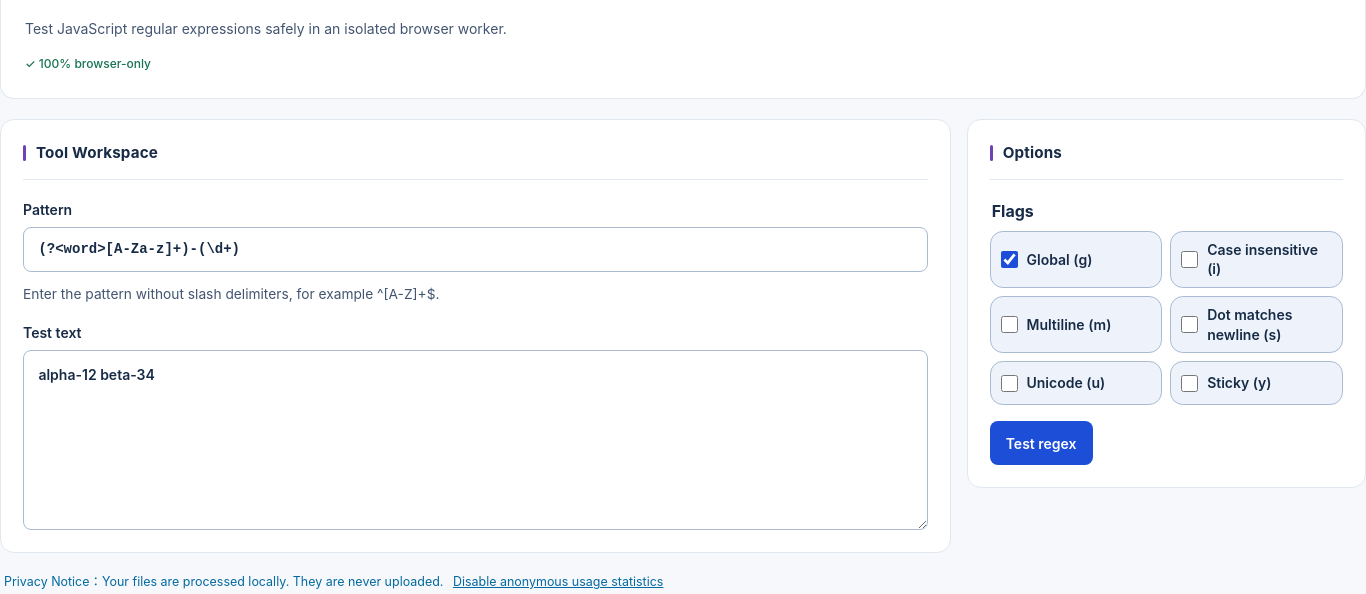
Test: RegexTesterPage › shows explicit no-match and truncated-result states
The image size is (1366, 594).
What coordinates should you click on to do the following:
click the button "Test regex"
I would click on:
 (1041, 443)
Its box is [990,421,1092,465].
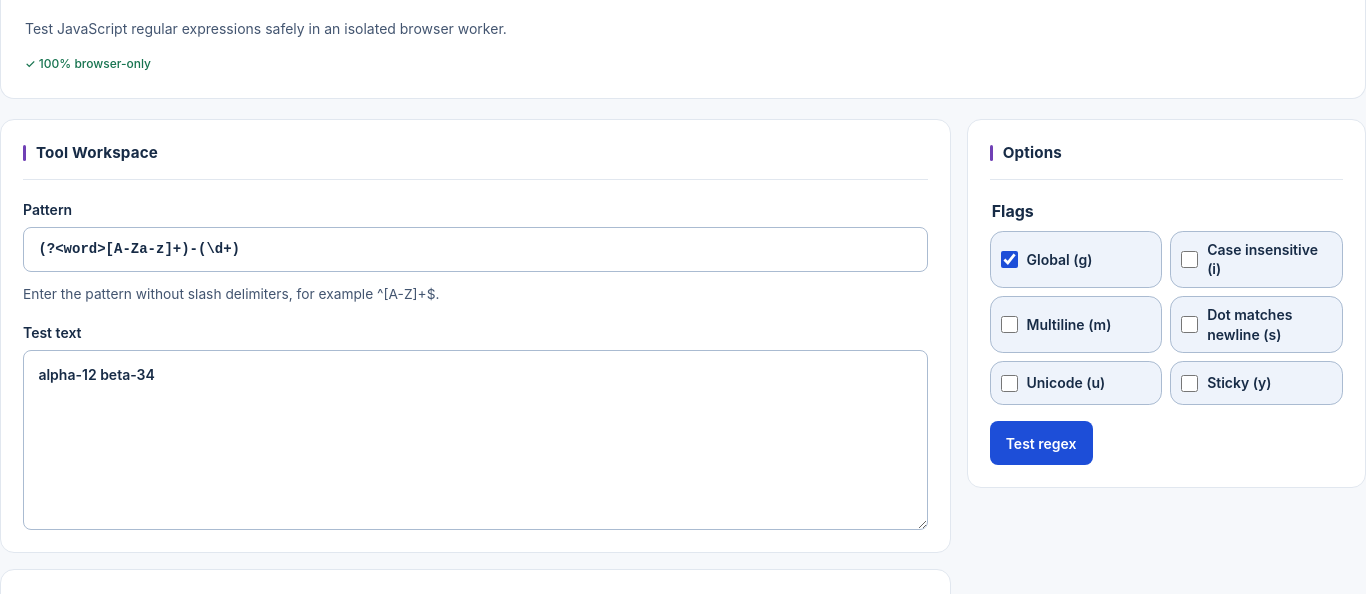
What coordinates should you click on to do the following:
click the button "Test regex"
I would click on:
 (1041, 443)
Its box is [990,421,1092,465].
(page scrolled)
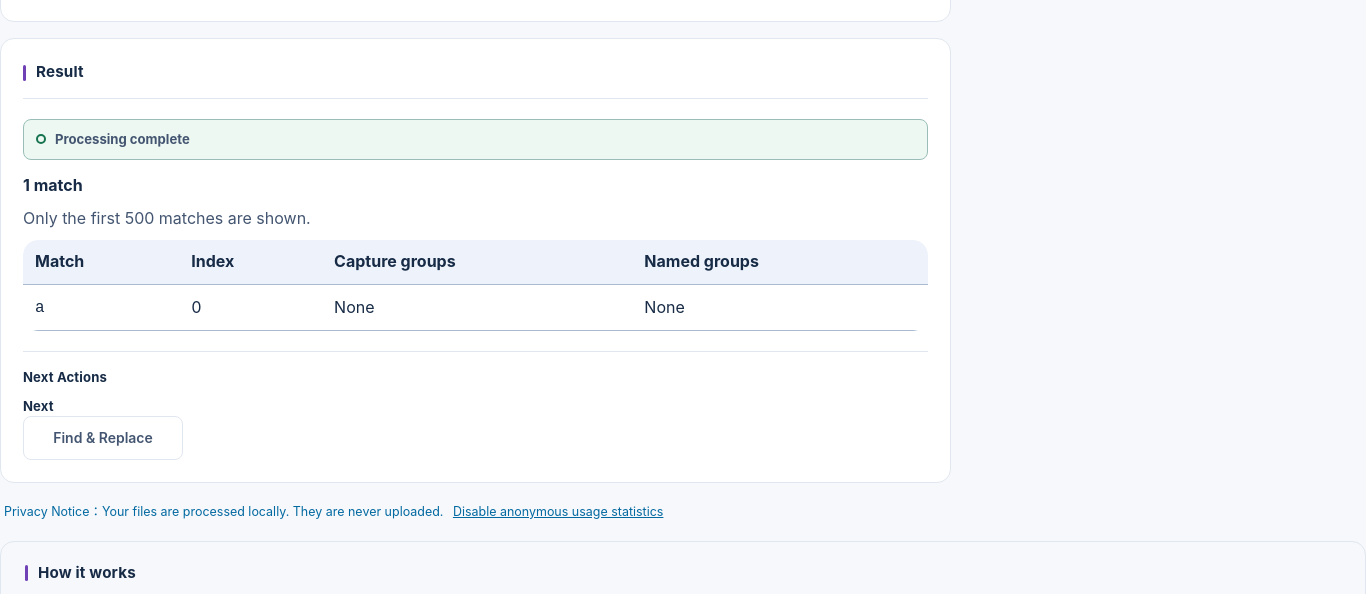
Result: the text "Only the first 500 matches are shown." is shown at [23,208,311,228]
